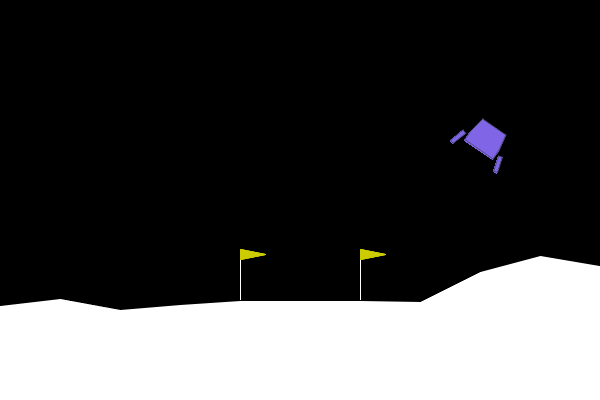lander: (448, 109, 520, 176)
